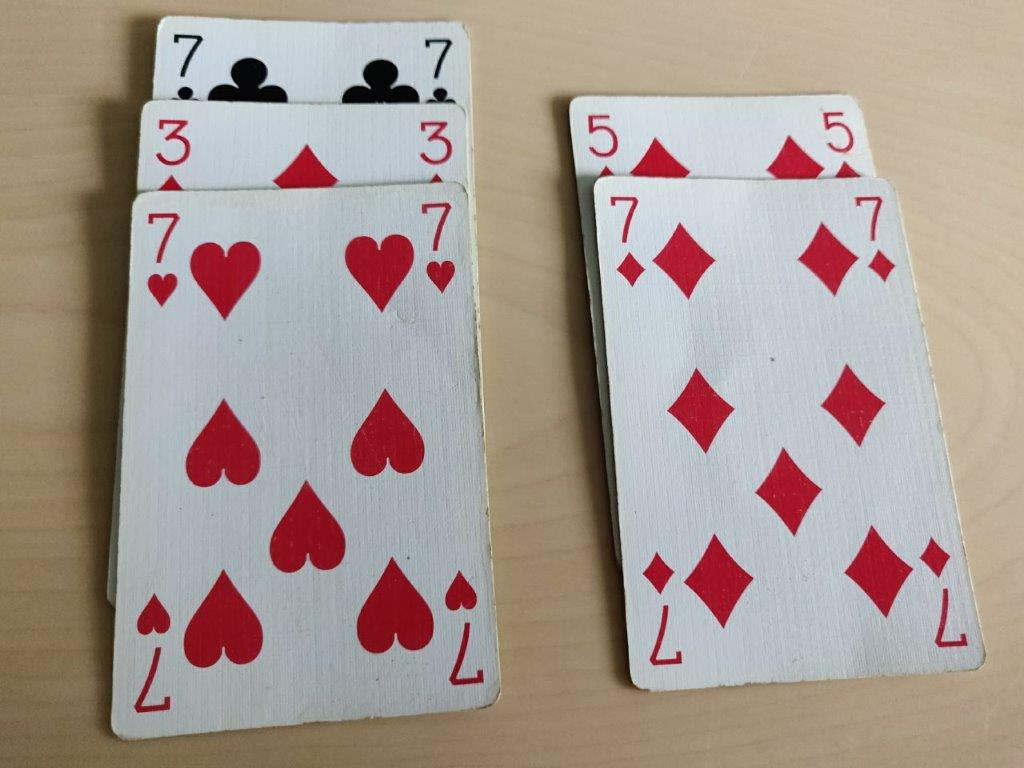3D: (146, 111, 196, 195), (410, 113, 462, 187)
5D: (815, 99, 863, 182), (579, 104, 625, 184)
7C: (160, 21, 208, 104), (419, 28, 467, 111)
7D: (602, 192, 653, 291), (851, 190, 902, 289)
7H: (140, 204, 186, 314), (418, 195, 464, 305)
